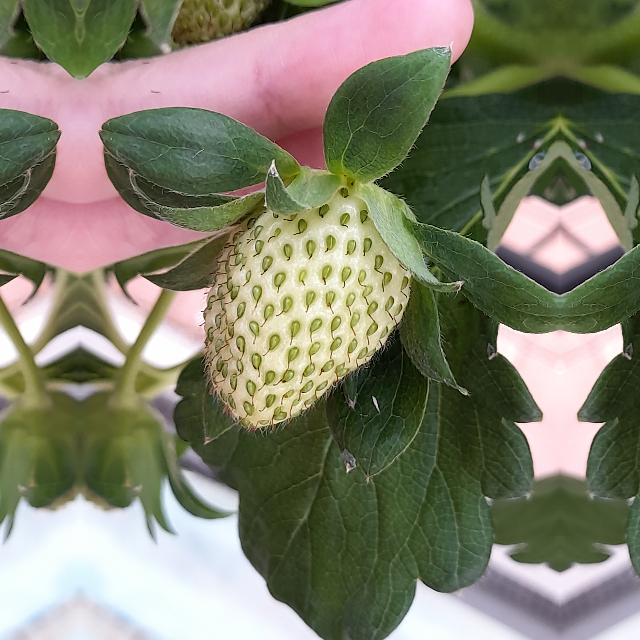Health_25: (197, 180, 421, 438)
